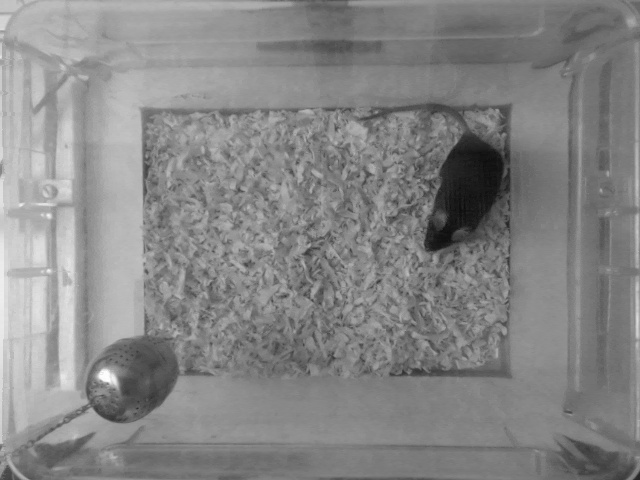mice: (353, 103, 502, 253)
